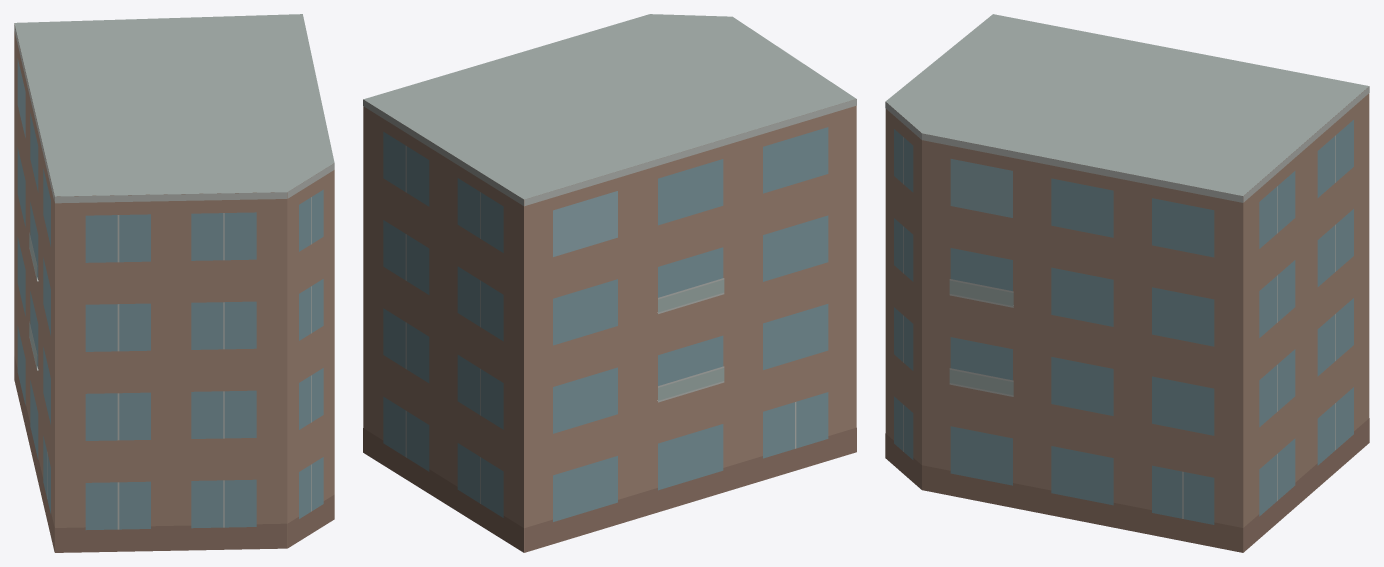
The model's file is survey-upis-32687960.glb.
The picture shows the model from 3 angles, left to right: view 1: azimuth 30°, elevation 25°; view 2: azimuth 150°, elevation 25°; view 3: azimuth 270°, elevation 25°; orthographic projection.
Parts seen in each view (by area): view 1: survey-upis-32687960.tmp; view 2: survey-upis-32687960.tmp; view 3: survey-upis-32687960.tmp.
Part boxes in pixels (x1=…): survey-upis-32687960.tmp: x1=14, y1=14, x2=334, y2=552; survey-upis-32687960.tmp: x1=363, y1=14, x2=856, y2=552; survey-upis-32687960.tmp: x1=885, y1=14, x2=1369, y2=552.
Size of the model in its own units: 14.03 by 12.8 by 15.75.
